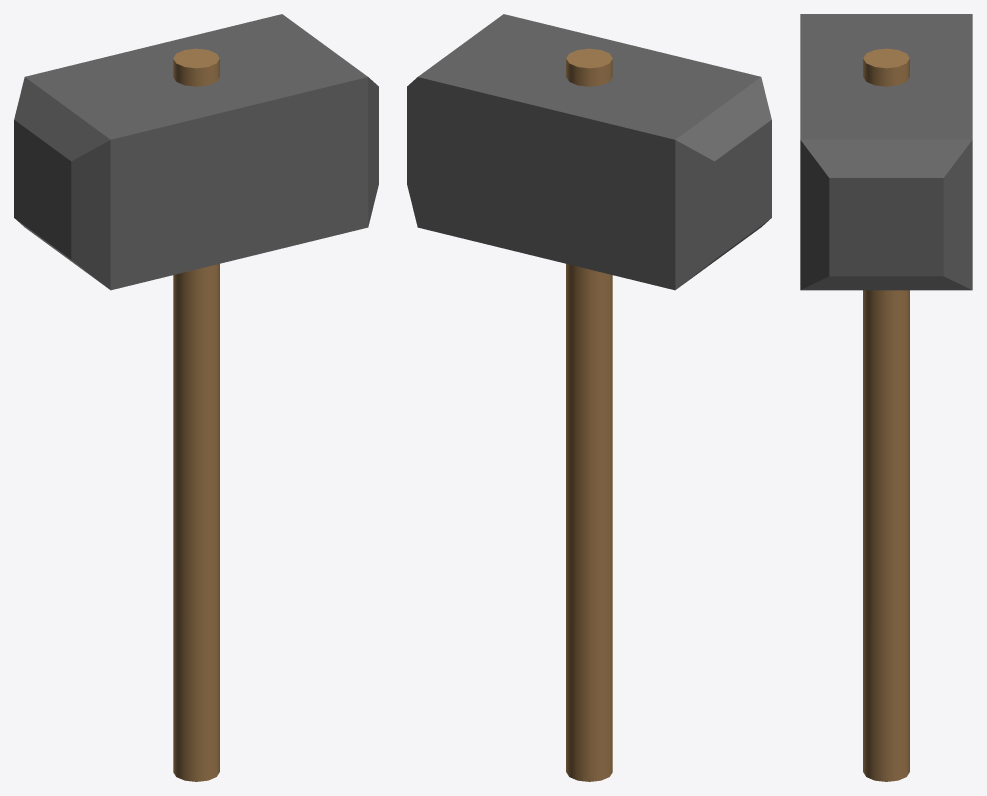
The model's file is Work Hammer_2.fbx.
The picture shows the model from 3 angles, left to right: view 1: azimuth 30°, elevation 25°; view 2: azimuth 150°, elevation 25°; view 3: azimuth 270°, elevation 25°; orthographic projection.
Parts seen in each view (by area): view 1: Work Hammer_2; view 2: Work Hammer_2; view 3: Work Hammer_2.
Boxes of the visible parts, bbox=[...] form: Work Hammer_2: bbox=[14, 14, 378, 781]; Work Hammer_2: bbox=[407, 14, 771, 781]; Work Hammer_2: bbox=[800, 14, 972, 781].
Size of the model in its own units: 0.197 by 0.4367 by 0.0955.
